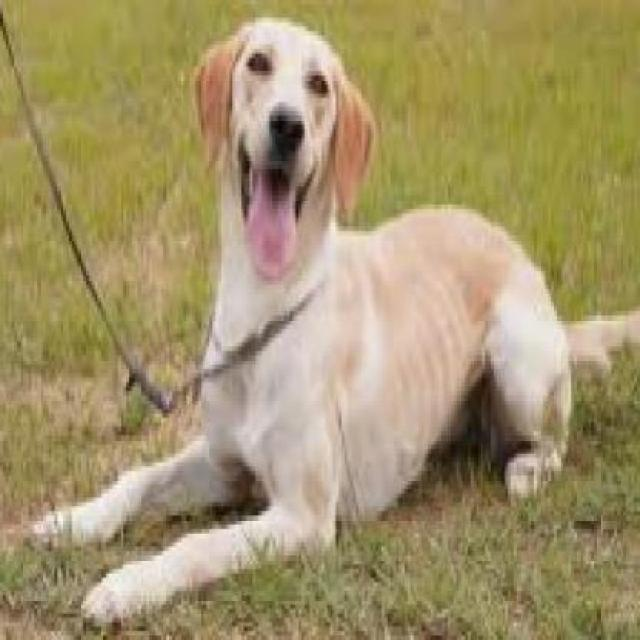Dog: (14, 14, 637, 635)
